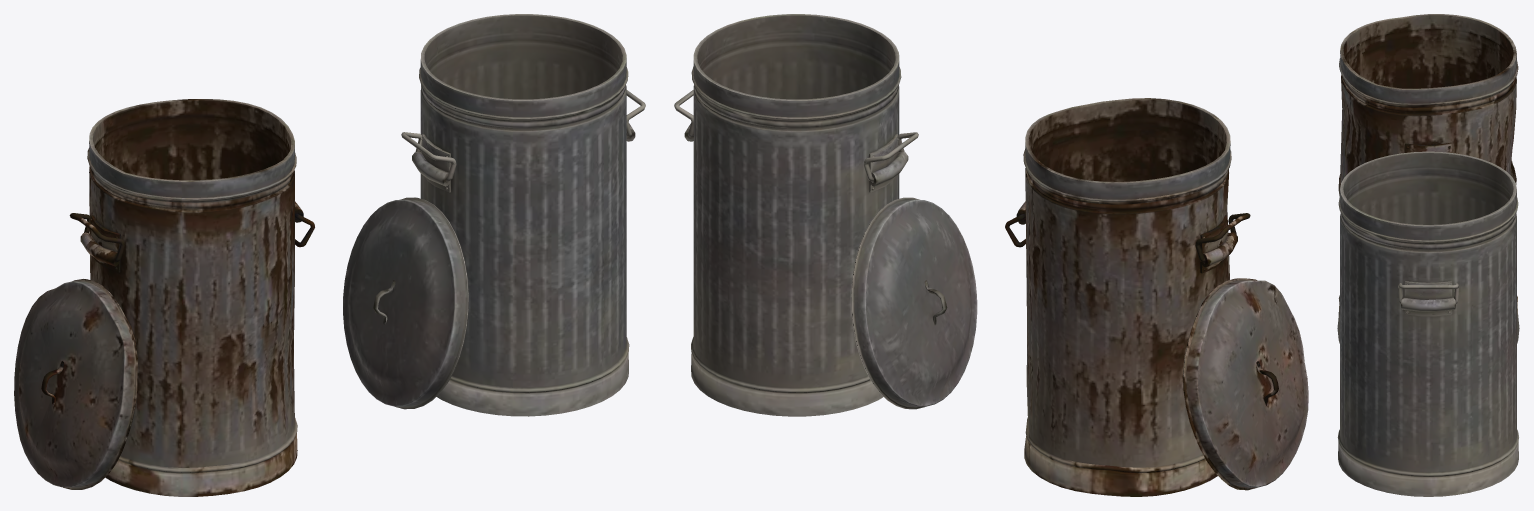
The model's file is trash_can.glb.
3 views of the same model, side by side, from view 1: azimuth 30°, elevation 25°; view 2: azimuth 150°, elevation 25°; view 3: azimuth 270°, elevation 25° (orthographic). The views are drawn at different scales.
Visible parts, largest first — view 1: metal_trash_can, metal_trash_can_rust, metal_trash_can_lid, metal_trash_can_rust_lid; view 2: metal_trash_can, metal_trash_can_rust, metal_trash_can_lid, metal_trash_can_rust_lid; view 3: metal_trash_can, metal_trash_can_rust, metal_trash_can_handle_right.
Boxes of the visible parts, bbox=[...] form: metal_trash_can: bbox=[412, 14, 635, 416]; metal_trash_can_rust: bbox=[80, 99, 303, 496]; metal_trash_can_lid: bbox=[343, 197, 468, 409]; metal_trash_can_rust_lid: bbox=[14, 279, 137, 489]; metal_trash_can: bbox=[684, 14, 908, 416]; metal_trash_can_rust: bbox=[1016, 98, 1237, 496]; metal_trash_can_lid: bbox=[851, 197, 977, 409]; metal_trash_can_rust_lid: bbox=[1183, 278, 1308, 490]; metal_trash_can: bbox=[1337, 151, 1518, 496]; metal_trash_can_rust: bbox=[1338, 14, 1518, 316]; metal_trash_can_handle_right: bbox=[1398, 283, 1458, 303].
Size of the model in its own units: 1.78 by 0.9062 by 0.5543.
2 materials, 2 textured.
